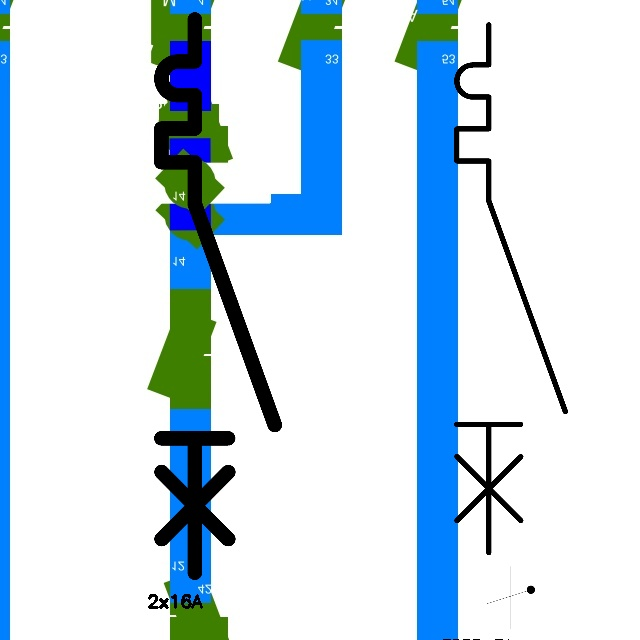interruptor_termomagnetico: (147, 5, 289, 587), (443, 11, 579, 566)
